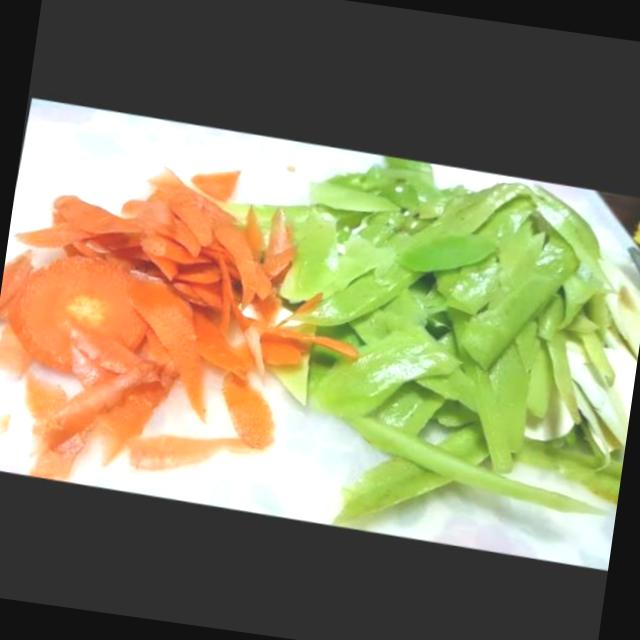vo_rau_cu: (376, 236, 615, 470), (311, 153, 606, 281), (123, 161, 293, 374), (330, 413, 609, 523), (26, 310, 179, 477), (234, 199, 400, 324), (7, 251, 148, 368), (312, 323, 461, 415), (127, 272, 207, 417), (284, 258, 425, 324), (15, 190, 175, 244), (522, 422, 623, 505), (123, 432, 260, 468), (219, 367, 277, 452), (395, 233, 500, 272), (190, 165, 242, 199)
